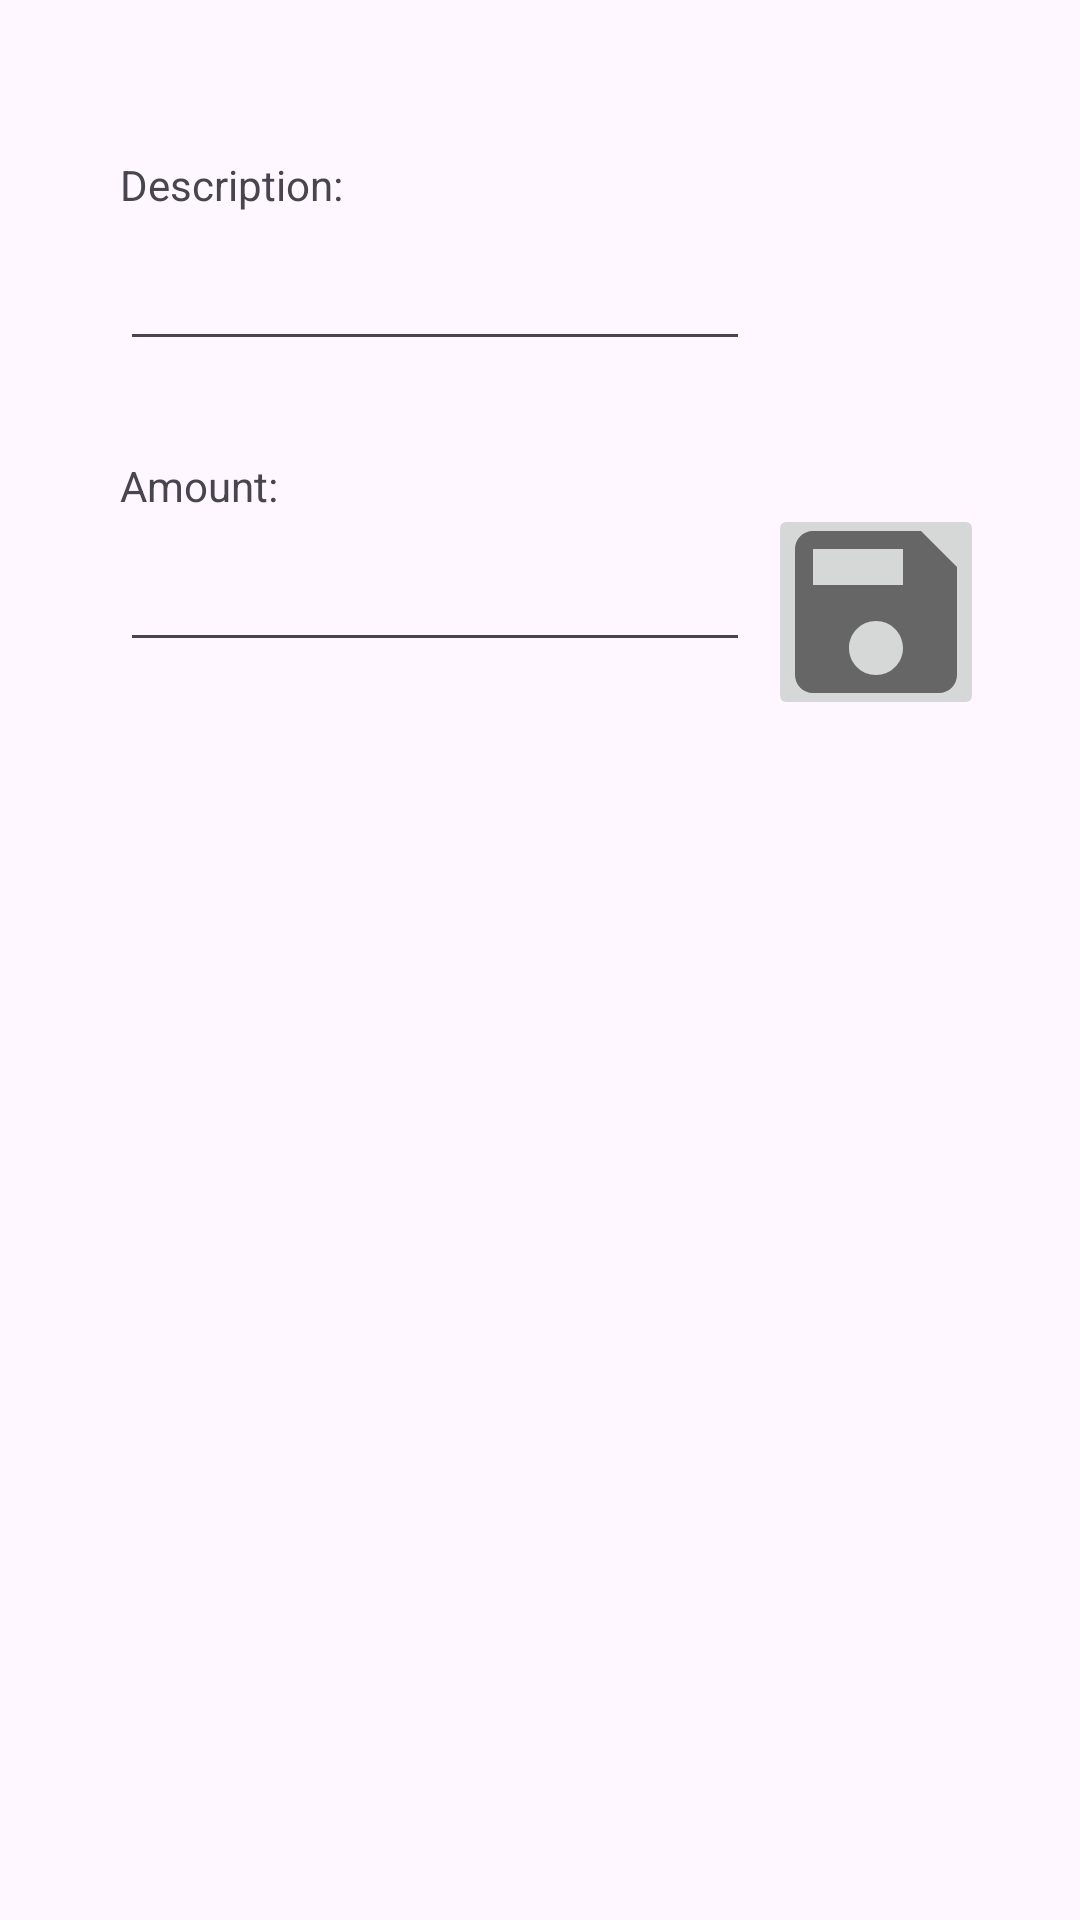

Screen size 1080 x 1920. Icon name, then its box in pixels as region(x1, y1, x2, y2):
save: region(780, 522, 972, 702)
